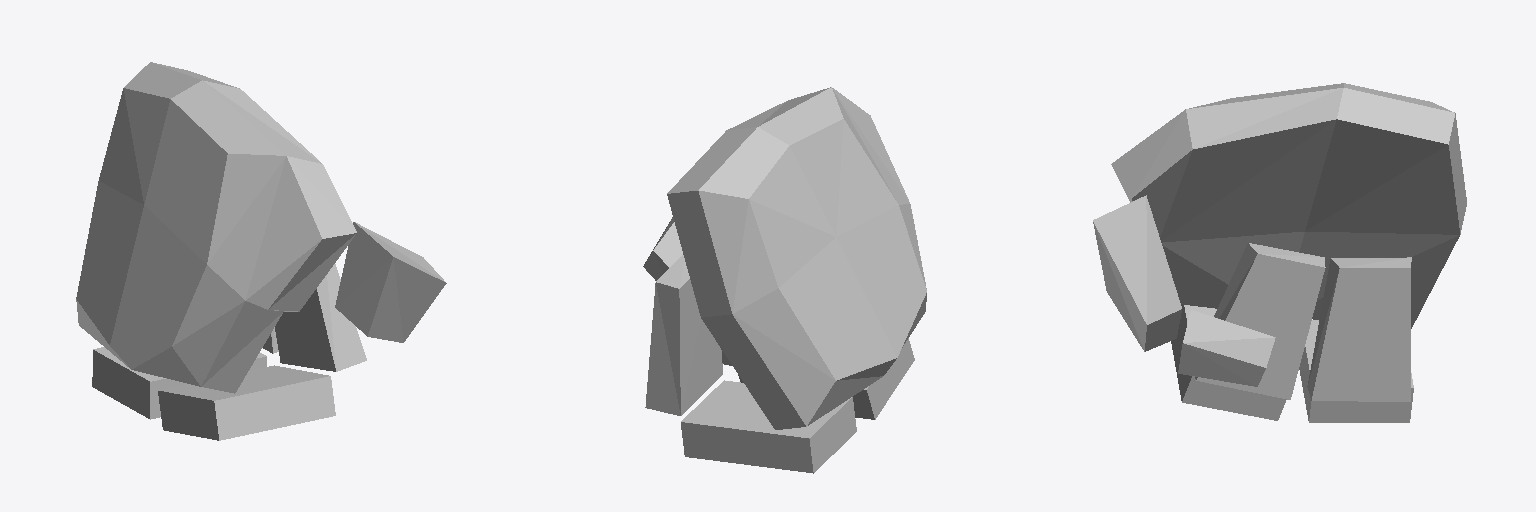
File: HandR-closed.obj
3 views of the same model, side by side, from view 1: azimuth 30°, elevation 25°; view 2: azimuth 150°, elevation 25°; view 3: azimuth 270°, elevation 25° (orthographic).
Parts seen in each view (by area): view 1: HandR_Cube.000; view 2: HandR_Cube.000; view 3: HandR_Cube.000.
Boxes of the visible parts, box(x1,y1,x2,y2) form: HandR_Cube.000: box(76, 62, 446, 440); HandR_Cube.000: box(643, 87, 926, 473); HandR_Cube.000: box(1093, 83, 1466, 422).
Bounding box in the file's own units: 0.0898 × 0.0982 × 0.1057.